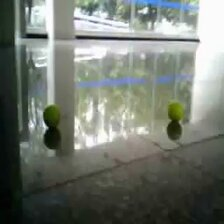tennis: (42, 104, 60, 128), (167, 101, 183, 120)
